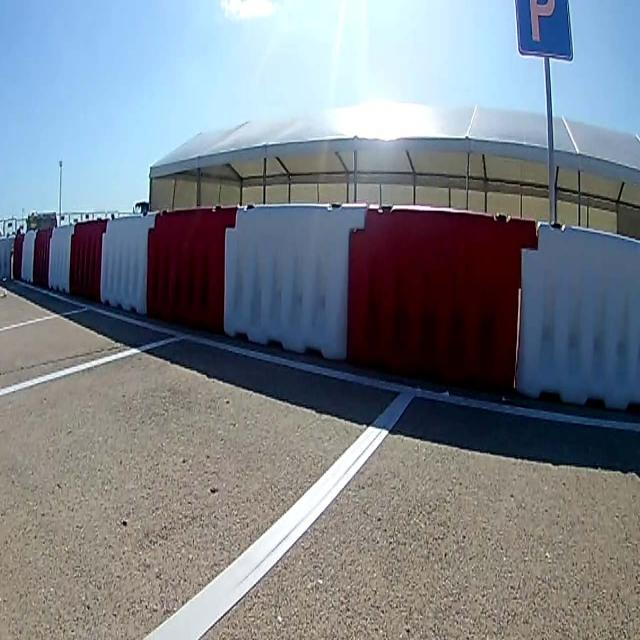park: (515, 1, 573, 62)
